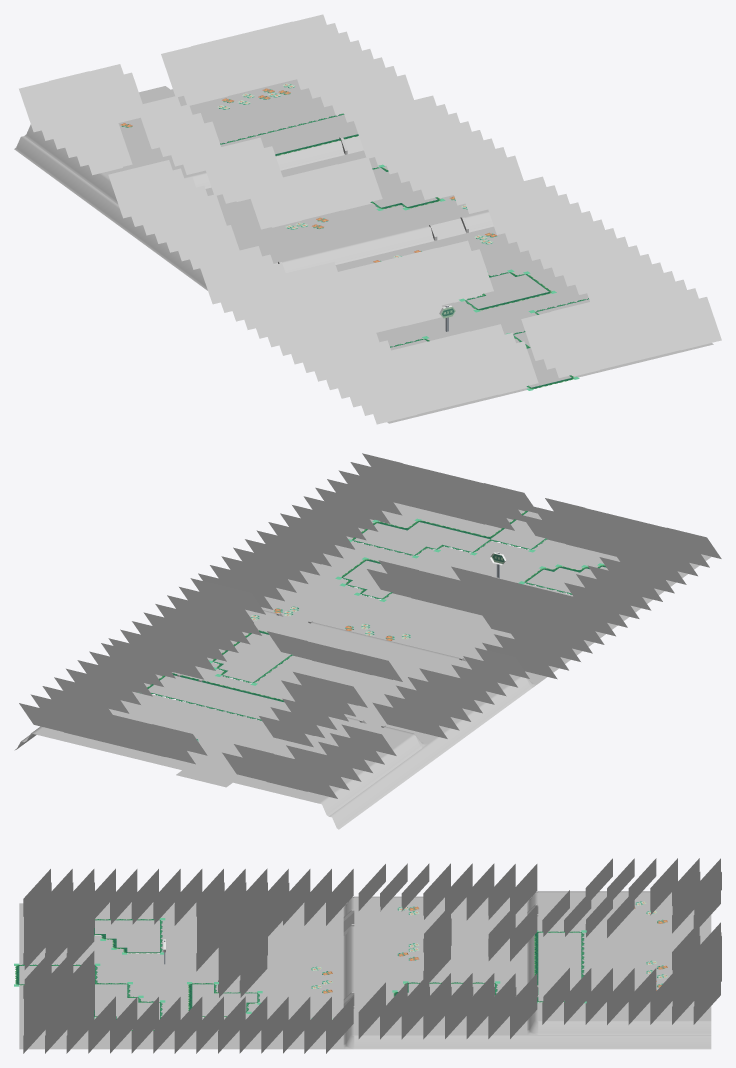
Rendered from Route 1.dae.
3 renders of one model, top to bottom at view 1: azimuth 30°, elevation 25°; view 2: azimuth 150°, elevation 25°; view 3: azimuth 270°, elevation 25°, orthographic. The views are drawn at different scales.
Visible parts, largest first — view 1: map32_09c, map32_10c; view 2: map32_09c, map32_10c; view 3: map32_09c, map32_10c.
Boxes of the visible parts, x1=… form: map32_09c: x1=14, y1=14, x2=523, y2=290; map32_10c: x1=198, y1=176, x2=721, y2=424; map32_09c: x1=14, y1=578, x2=531, y2=829; map32_10c: x1=198, y1=453, x2=721, y2=687; map32_09c: x1=354, y1=858, x2=721, y2=1049; map32_10c: x1=14, y1=868, x2=365, y2=1053.
Size of the model in its own units: 544 by 1048 by 82.42.
